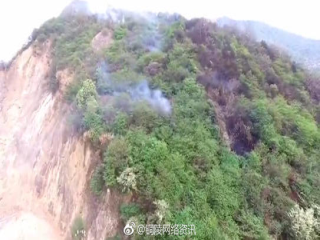smoke: (130, 81, 180, 123)
